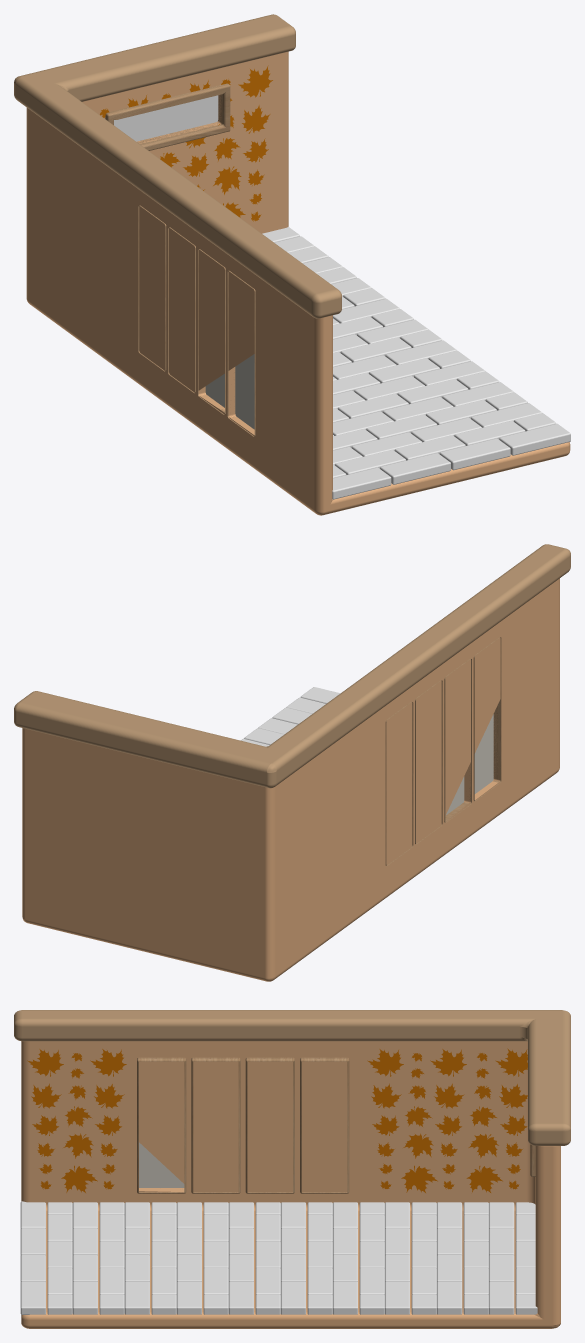
The model's file is Invernadero Otoño.fbx.
The picture shows the model from 3 angles, top to bottom: view 1: azimuth 30°, elevation 25°; view 2: azimuth 150°, elevation 25°; view 3: azimuth 270°, elevation 25°; orthographic projection. The views are drawn at different scales.
Visible parts, largest first — view 1: Pared Otoño, Plane, Paredes.003, Papel Otoño, Ventana 2, Vidrio 2, Ventanas, Ventanas.001; view 2: Pared Otoño, Paredes.003, Ventanas, Plane, Ventanas.001; view 3: Pared Otoño, Plane, Paredes.003, Papel Otoño, Ventanas, Ventanas.001.
Boxes of the visible parts, bbox=[...] form: Pared Otoño: bbox=[26, 51, 570, 515]; Plane: bbox=[262, 227, 570, 499]; Paredes.003: bbox=[14, 14, 341, 318]; Papel Otoño: bbox=[100, 65, 272, 221]; Ventana 2: bbox=[105, 83, 230, 150]; Vidrio 2: bbox=[114, 95, 218, 141]; Ventanas: bbox=[138, 205, 255, 436]; Ventanas.001: bbox=[205, 354, 254, 429]; Pared Otoño: bbox=[22, 578, 559, 981]; Paredes.003: bbox=[14, 544, 570, 788]; Ventanas: bbox=[385, 637, 501, 865]; Plane: bbox=[241, 687, 340, 746]; Ventanas.001: bbox=[446, 714, 493, 814]; Pared Otoño: bbox=[21, 1041, 560, 1328]; Plane: bbox=[20, 1201, 537, 1314]; Paredes.003: bbox=[14, 1010, 570, 1145]; Papel Otoño: bbox=[27, 1048, 527, 1192]; Ventanas: bbox=[137, 1057, 349, 1193]; Ventanas.001: bbox=[139, 1142, 184, 1187].
Bounding box in the file's own units: 402 × 328 × 802.
9 materials, 4 textured.
